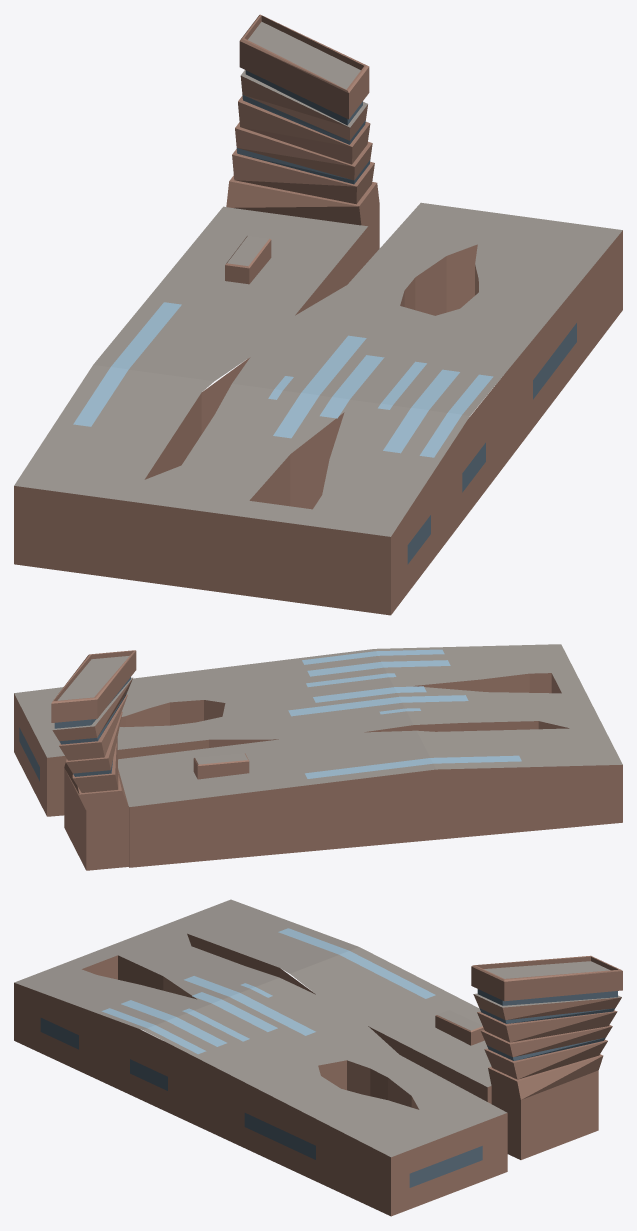
Rendered from detail.glb.
The picture shows the model from 3 angles, top to bottom: view 1: azimuth 30°, elevation 25°; view 2: azimuth 150°, elevation 25°; view 3: azimuth 270°, elevation 25°; orthographic projection. The views are drawn at different scales.
Parts seen in each view (by area): view 1: de-young-museum; view 2: de-young-museum; view 3: de-young-museum.
Boxes of the visible parts, x1=… form: de-young-museum: x1=14, y1=14, x2=622, y2=615; de-young-museum: x1=14, y1=644, x2=622, y2=870; de-young-museum: x1=14, y1=899, x2=622, y2=1216.
Size of the model in its own units: 161 by 50 by 161.
